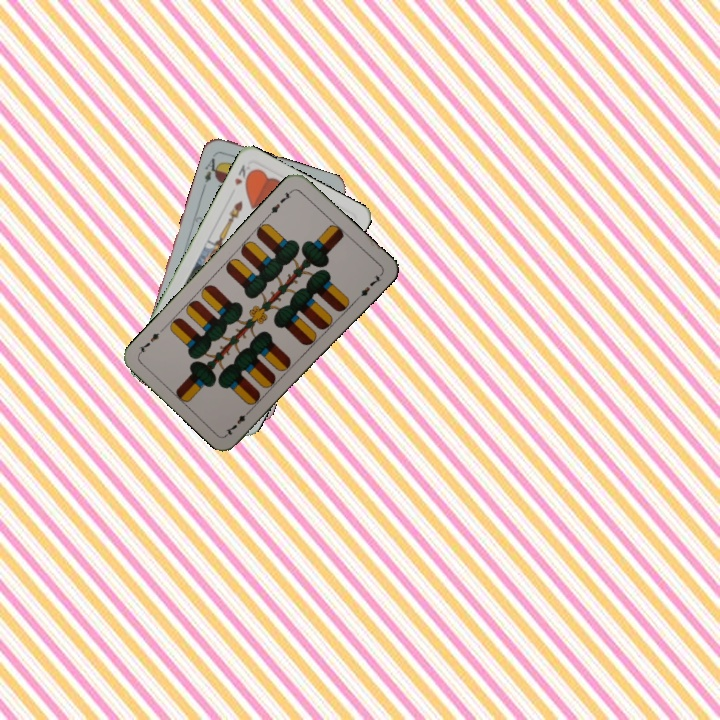E7: (264, 186, 296, 219), (222, 405, 254, 438)
EA: (200, 150, 223, 185)
HK: (231, 160, 256, 189)
